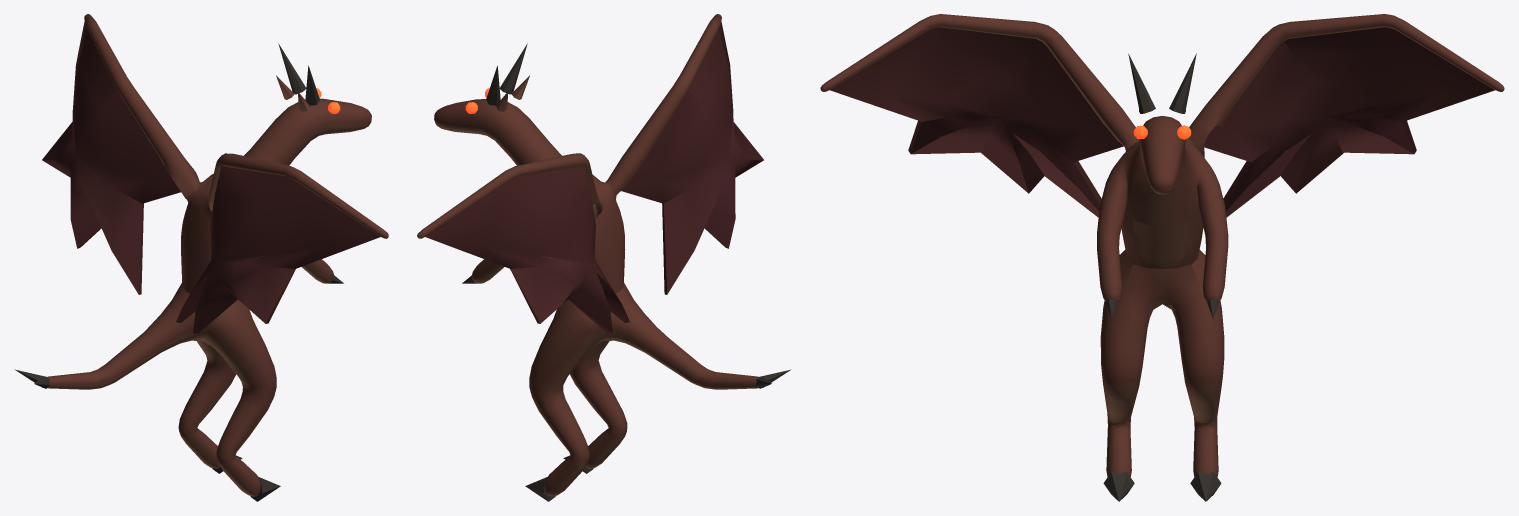
File: jersey-devil.glb
3 views of the same model, side by side, from view 1: azimuth 30°, elevation 25°; view 2: azimuth 150°, elevation 25°; view 3: azimuth 270°, elevation 25° (orthographic). The views are drawn at different scales.
Parts seen in each view (by area): view 1: jersey-devil.001; view 2: jersey-devil.001; view 3: jersey-devil.001.
Part boxes in pixels (<box>): jersey-devil.001: <box>14,14,388,501</box>; jersey-devil.001: <box>417,14,790,501</box>; jersey-devil.001: <box>820,14,1504,501</box>.
Size of the model in its own units: 1.89 by 2.17 by 2.84.
